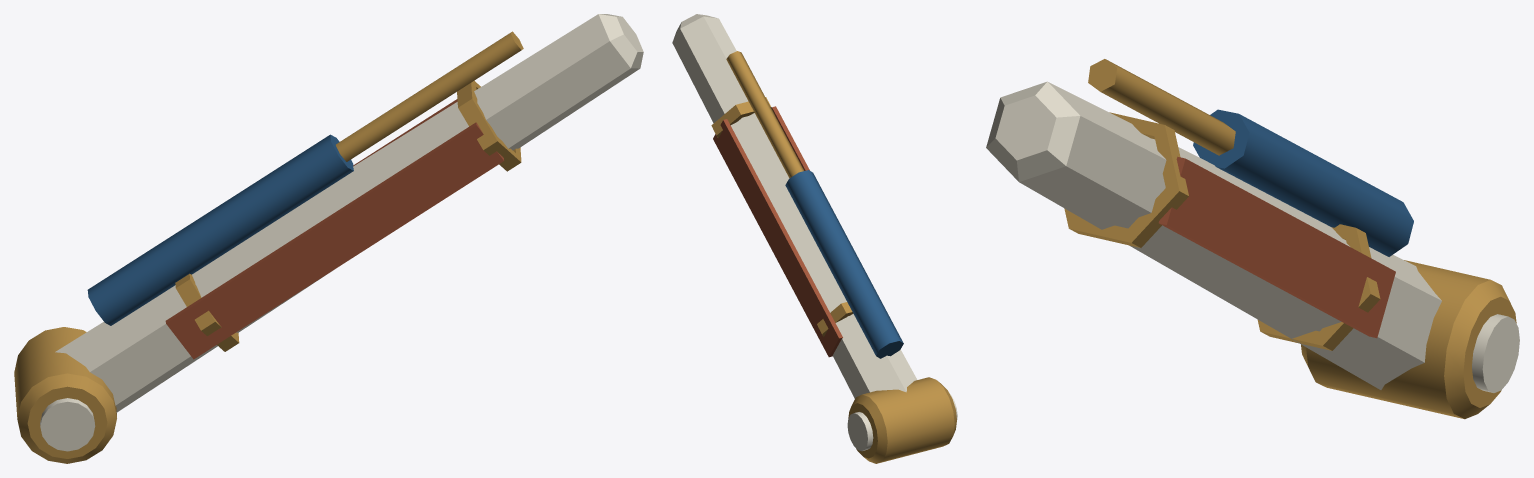
File: rm2_leg_fl_femur.obj
3 renders of one model, left to right at view 1: azimuth 30°, elevation 25°; view 2: azimuth 150°, elevation 25°; view 3: azimuth 270°, elevation 25°, orthographic. The views are drawn at different scales.
Parts seen in each view (by area): view 1: rm2_leg_fl_femur; view 2: rm2_leg_fl_femur; view 3: rm2_leg_fl_femur.
Part boxes in pixels (bbox=[...]): rm2_leg_fl_femur: bbox=[14, 14, 643, 463]; rm2_leg_fl_femur: bbox=[672, 14, 957, 463]; rm2_leg_fl_femur: bbox=[986, 59, 1519, 419].
Bounding box in the file's own units: 0.5366 × 0.4271 × 0.3449.
